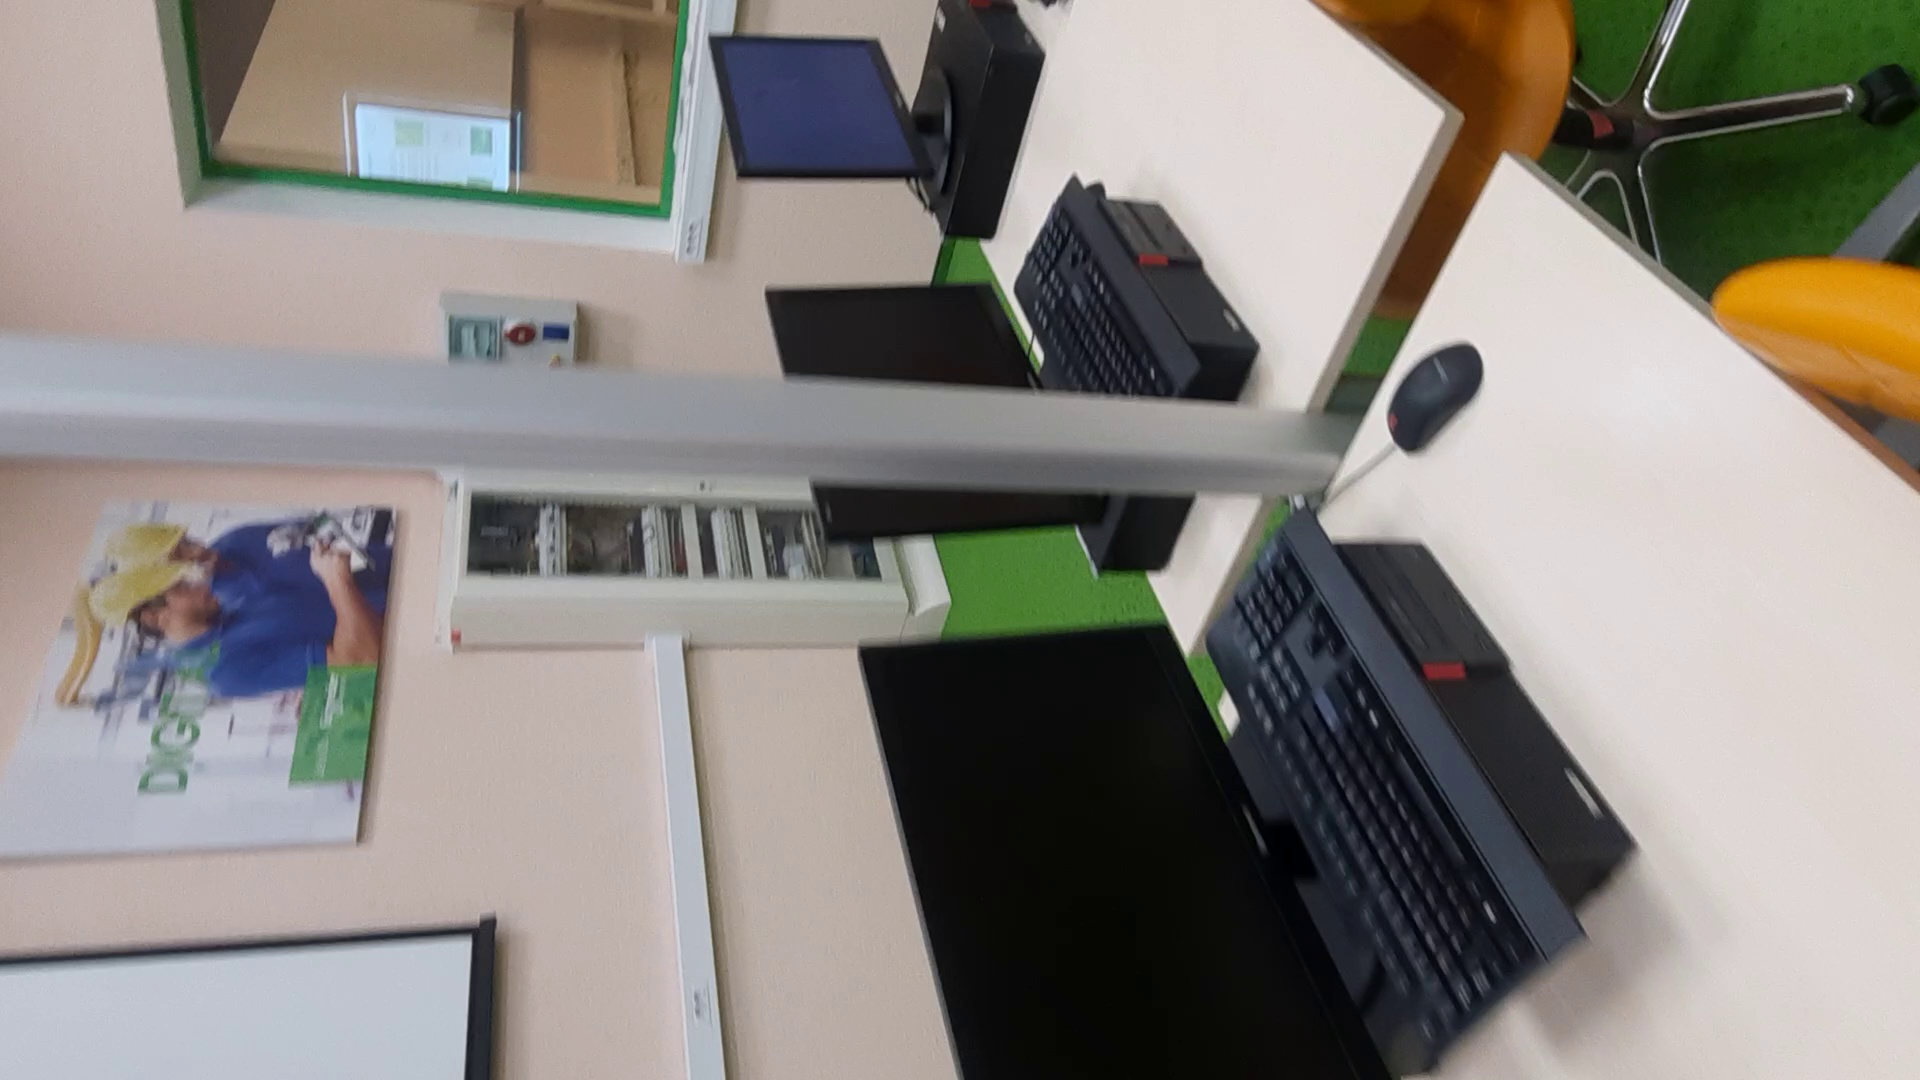stand1: (443, 467, 949, 649)
